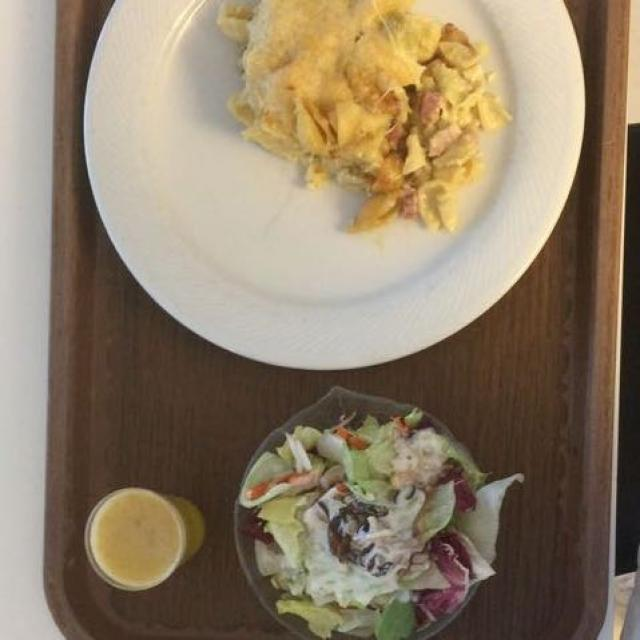pasta: (225, 3, 506, 233)
processed-cheese: (242, 19, 488, 222)
salad-leaf-salad-green: (249, 404, 514, 626)
